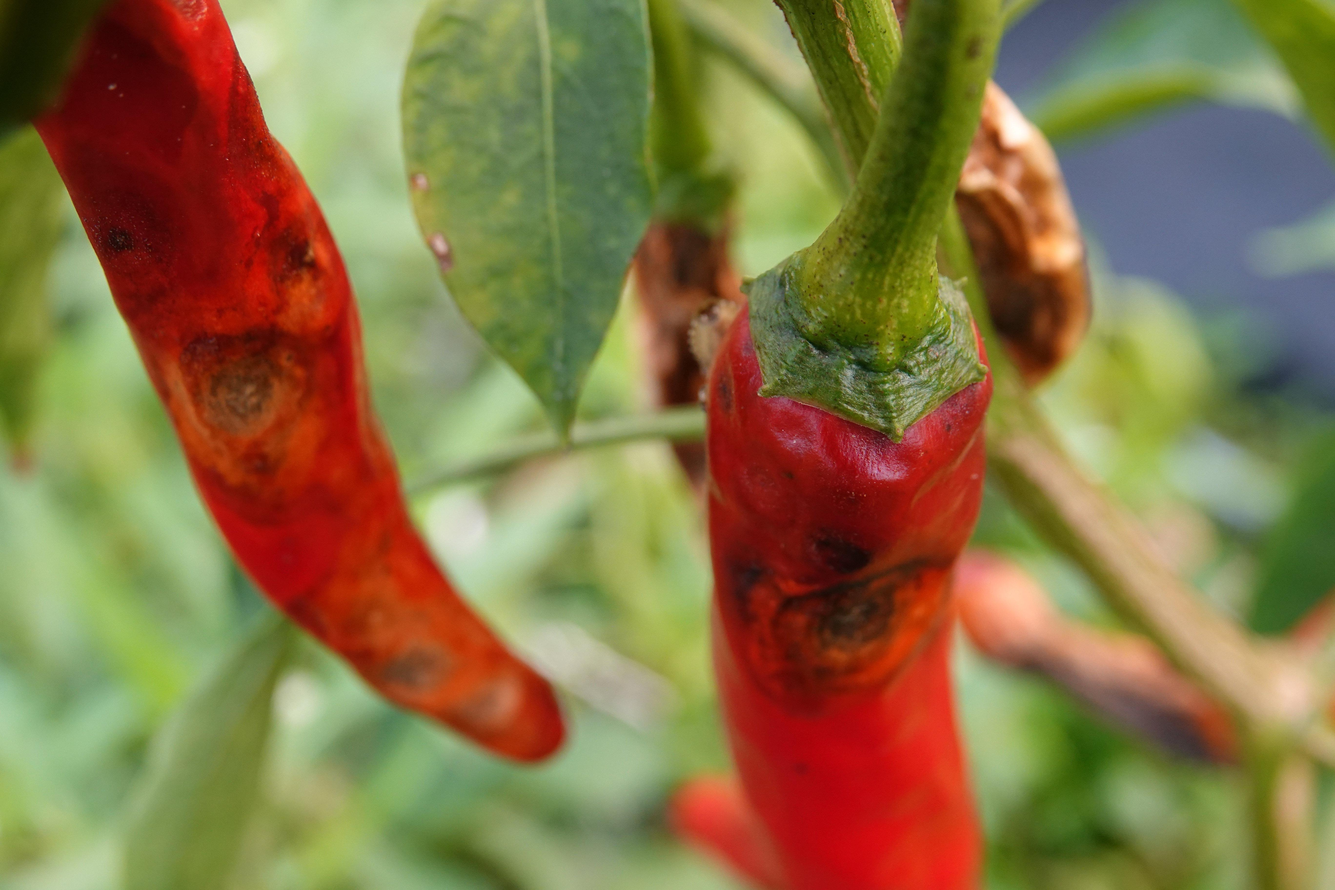Busuk Buah Antraknosa: (24, 0, 571, 768), (695, 269, 995, 890)
Virus Kuning: (390, 0, 670, 441)
